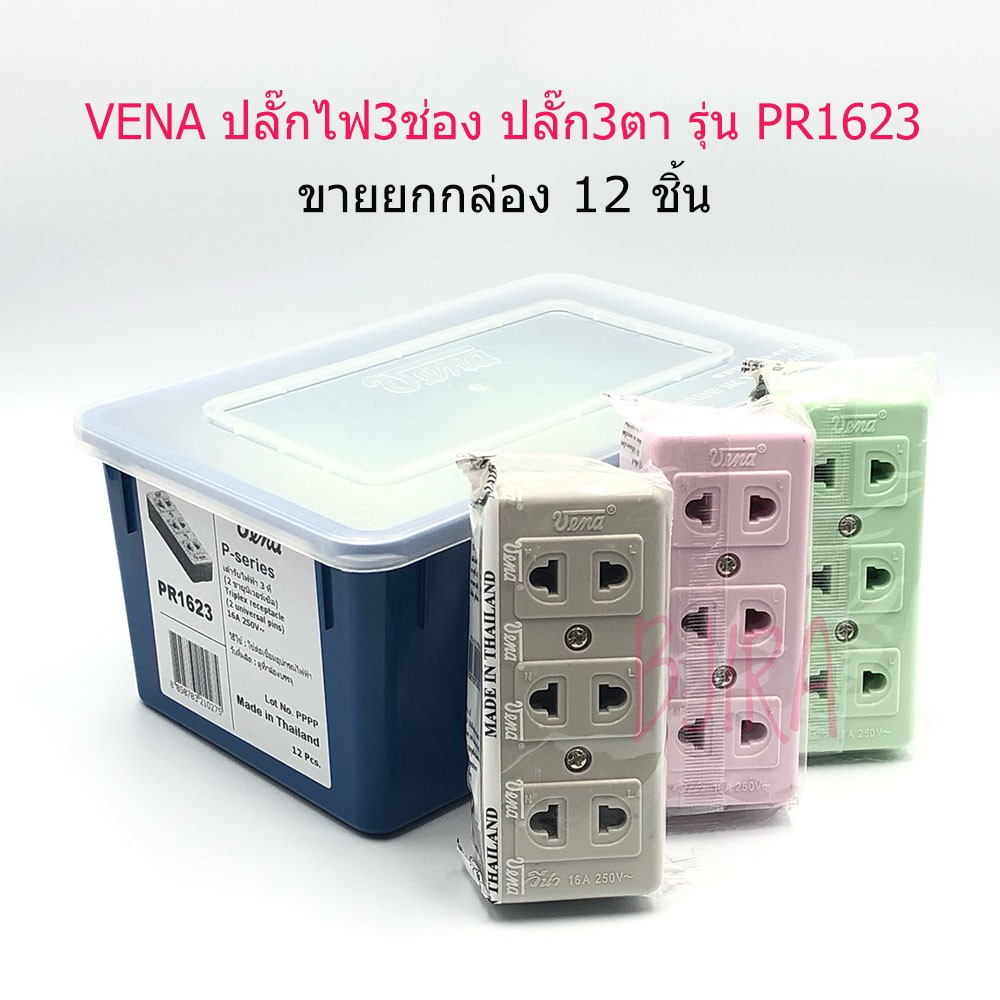Three_eye_plug: (448, 438, 690, 919), (616, 397, 807, 831), (757, 369, 928, 760)
